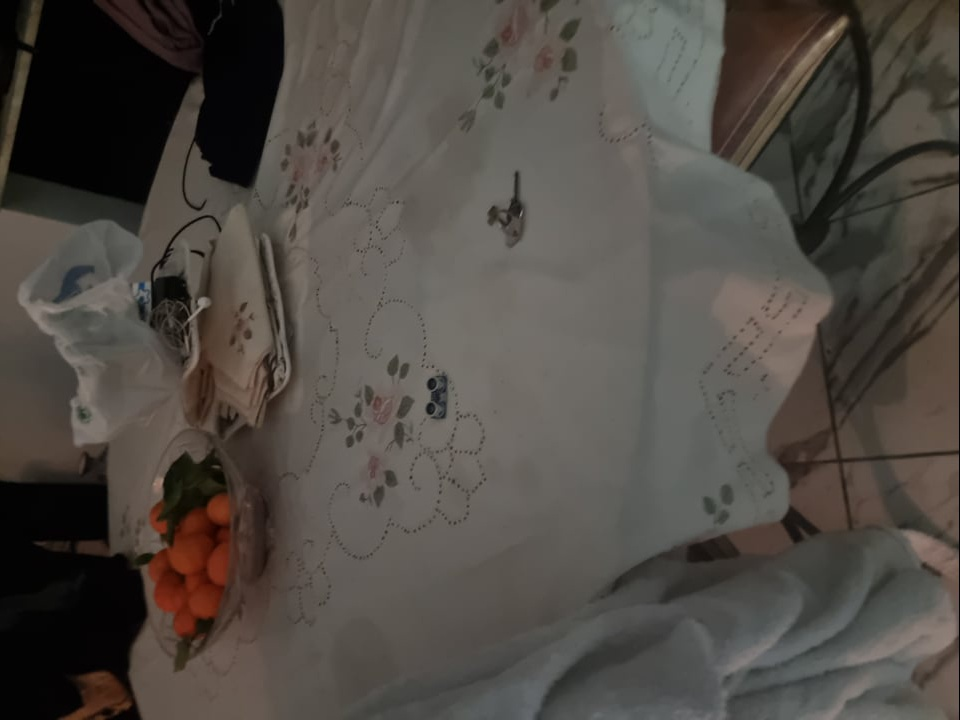SENSOR: (427, 372, 450, 419)
